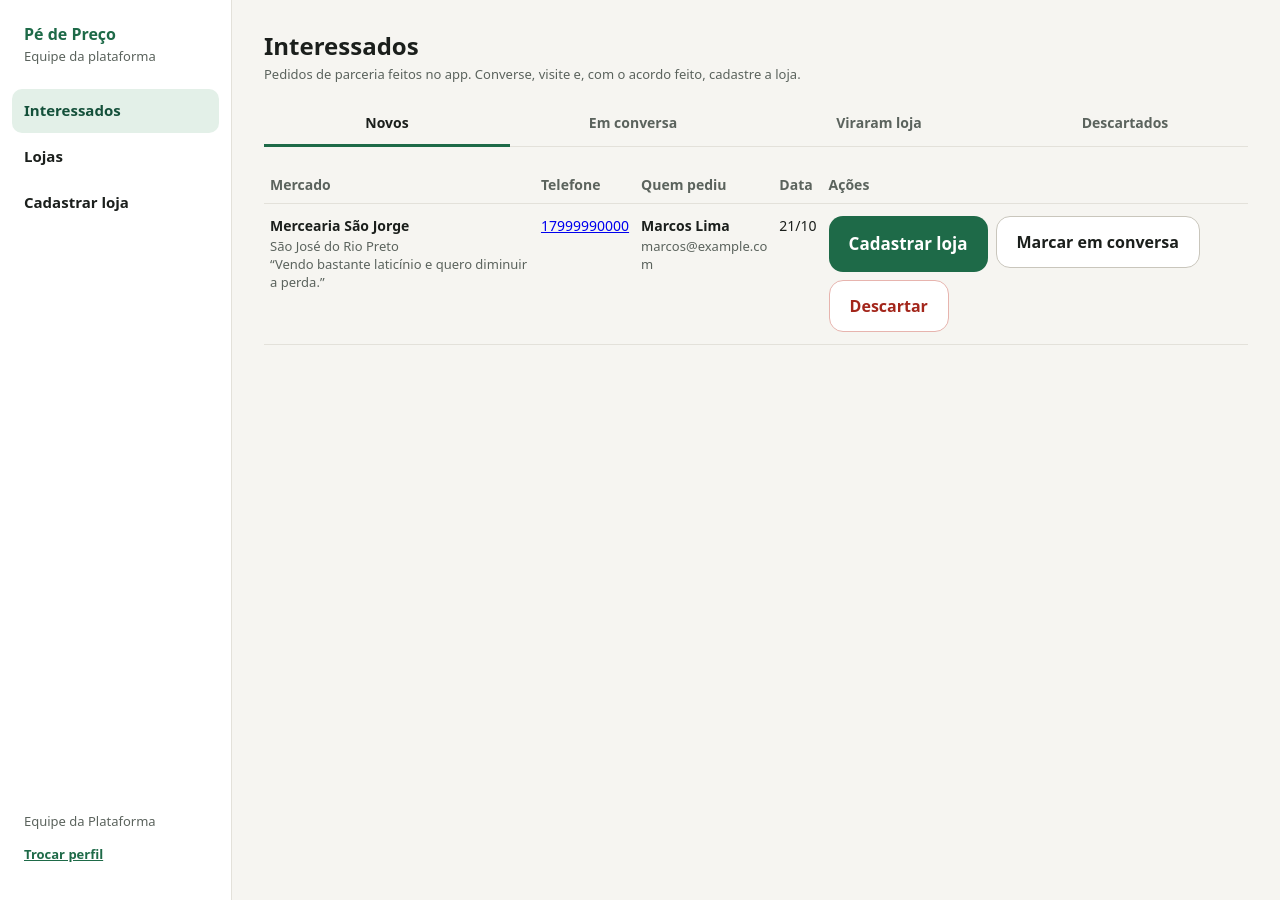
P1 · Interessados › "Marcar em conversa" move o pedido para a aba Em conversa
The width and height of the screenshot is (1280, 900).
Step 1. Click the button "Marcar em conversa" → (1098, 242), box [996, 216, 1200, 268]
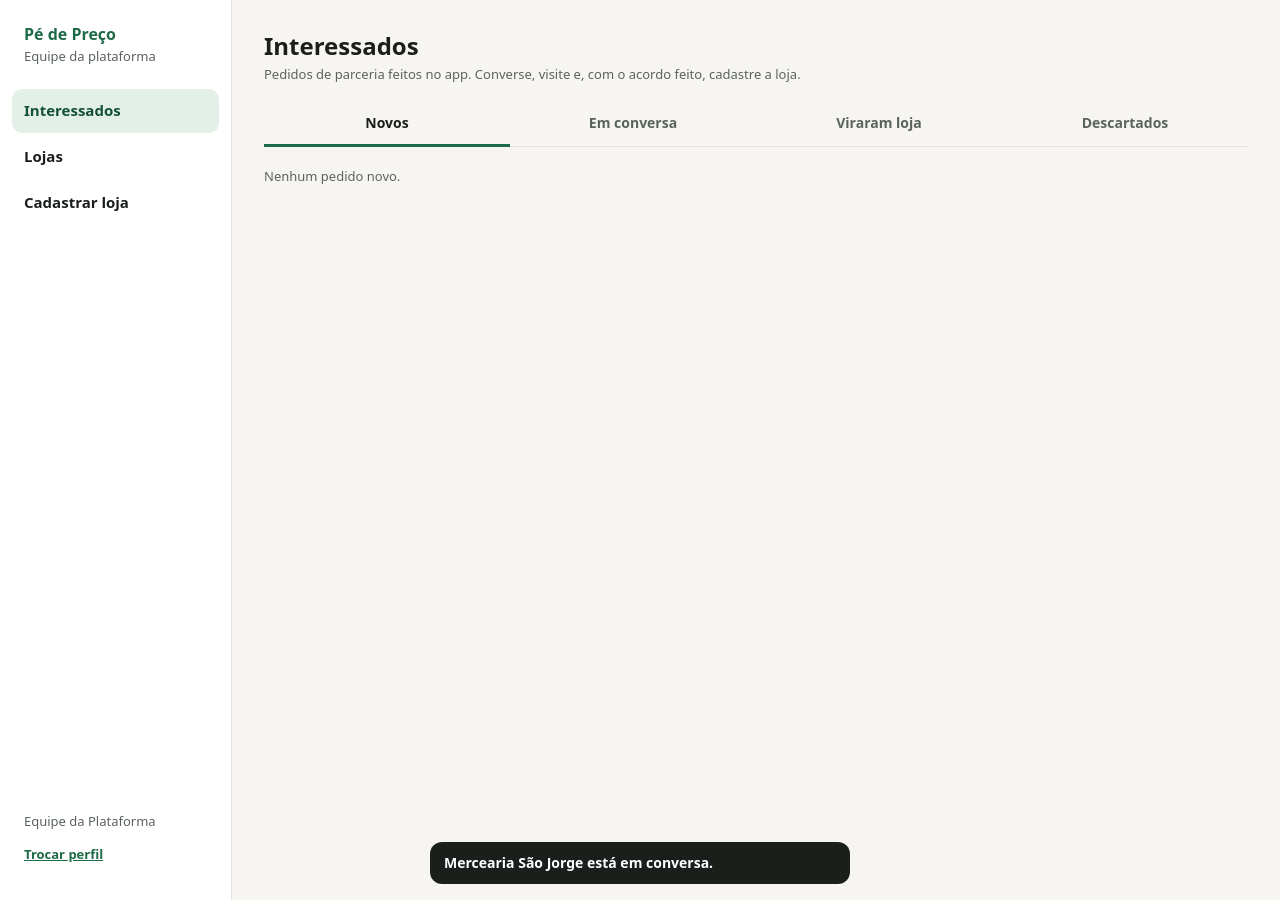
Check: the text "Nenhum pedido novo." is shown, box [264, 167, 400, 185]
Step 2. Click the tab "Em conversa" → (633, 125), box [510, 103, 756, 147]
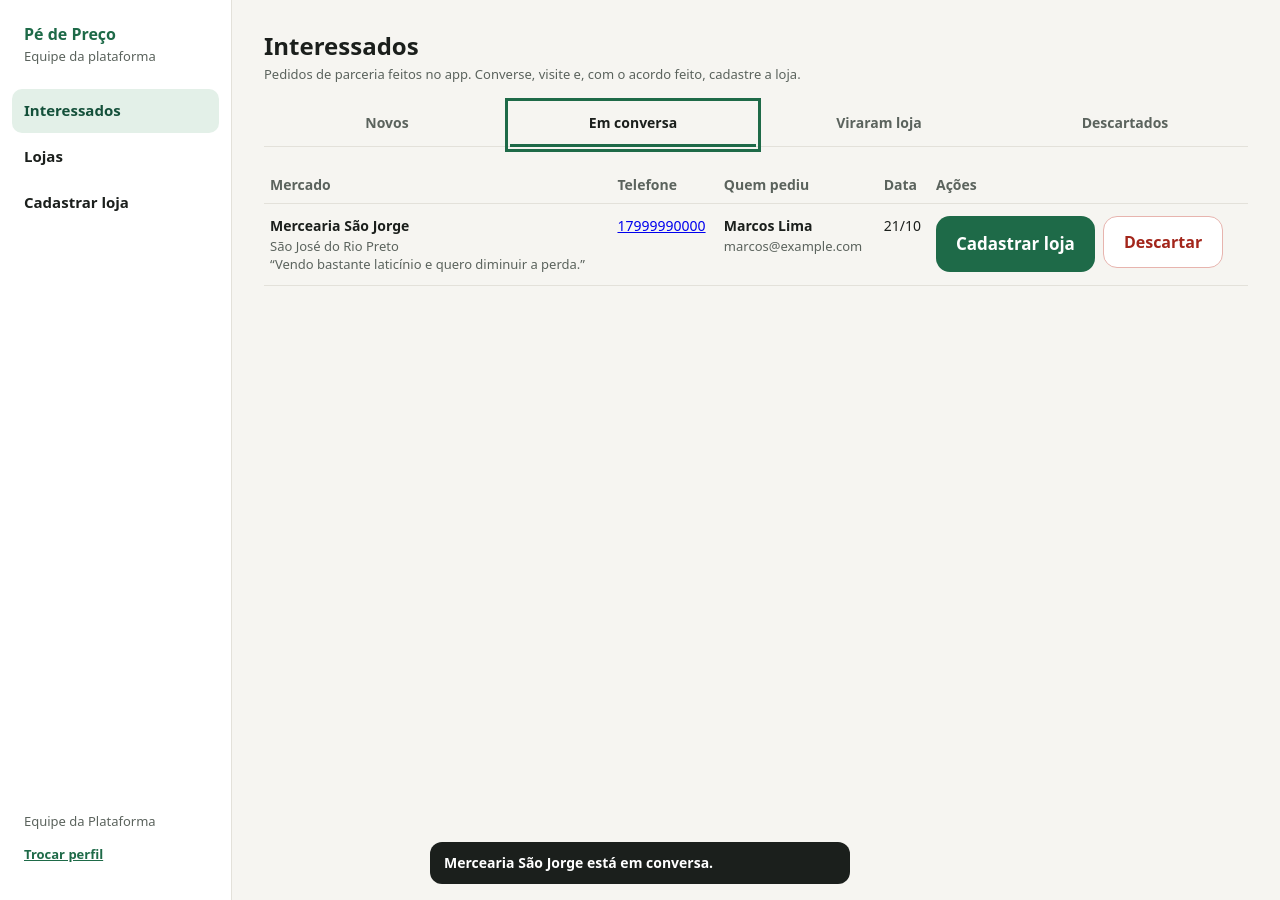
Check: the text "Mercearia São Jorge" is shown, box [270, 216, 409, 235]
